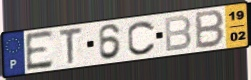6: (97, 22, 122, 61)
B: (194, 9, 226, 51), (163, 15, 193, 54)
C: (126, 19, 158, 56)
E: (24, 29, 55, 73)
T: (58, 26, 84, 67)
